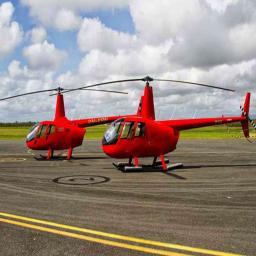helicopter: (65, 76, 256, 174), (2, 87, 136, 157)
